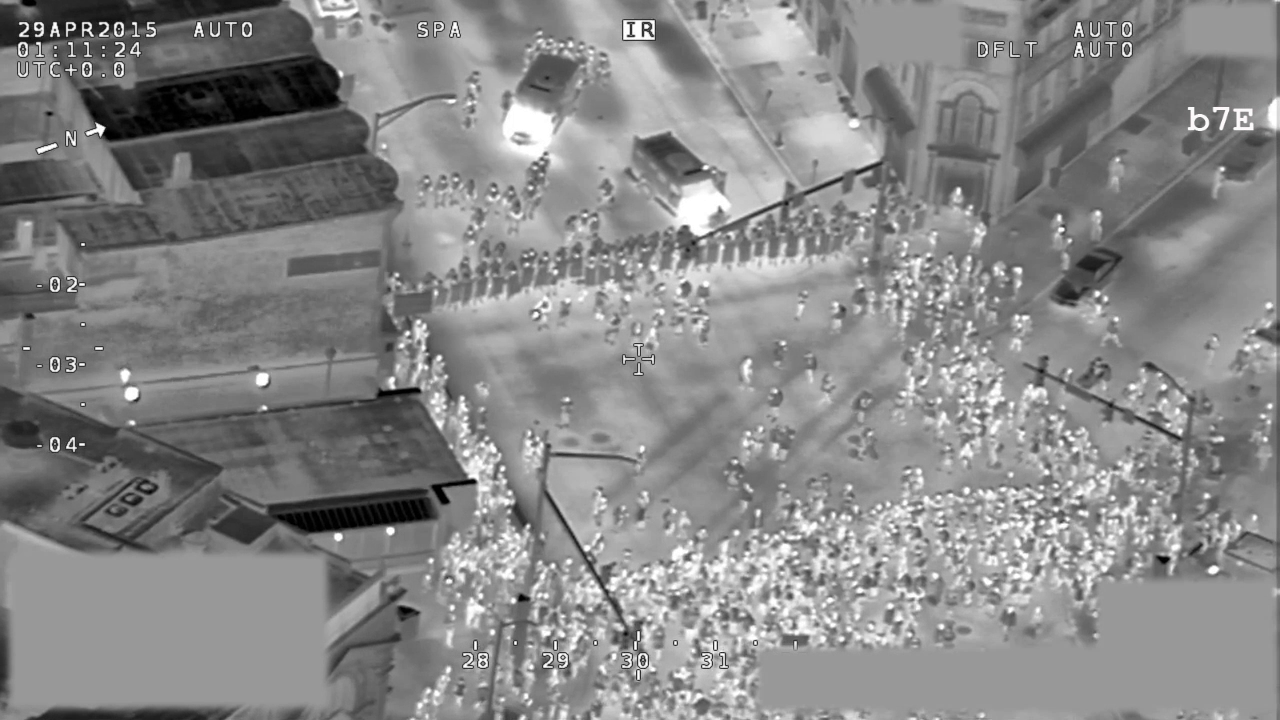vehicle: (624, 129, 732, 230), (500, 49, 585, 150), (1047, 245, 1125, 312), (1212, 128, 1280, 185)
